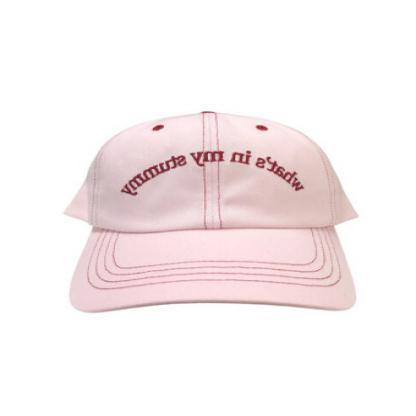cap: (43, 100, 393, 322)
